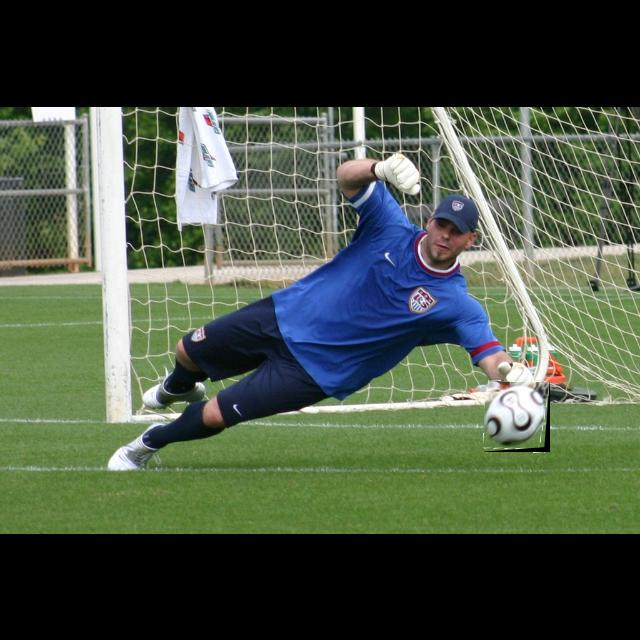Football: (484, 382, 550, 452)
